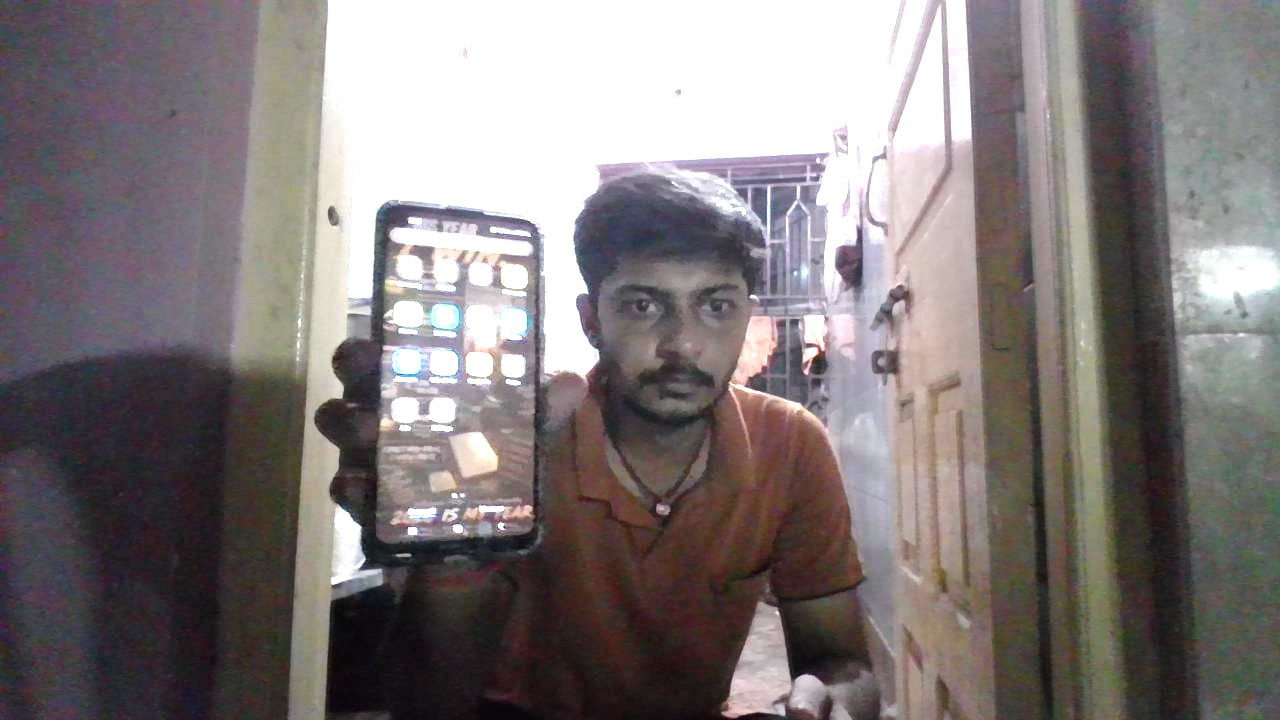red_box: (715, 400, 851, 562), (560, 448, 653, 526), (678, 487, 729, 534)
